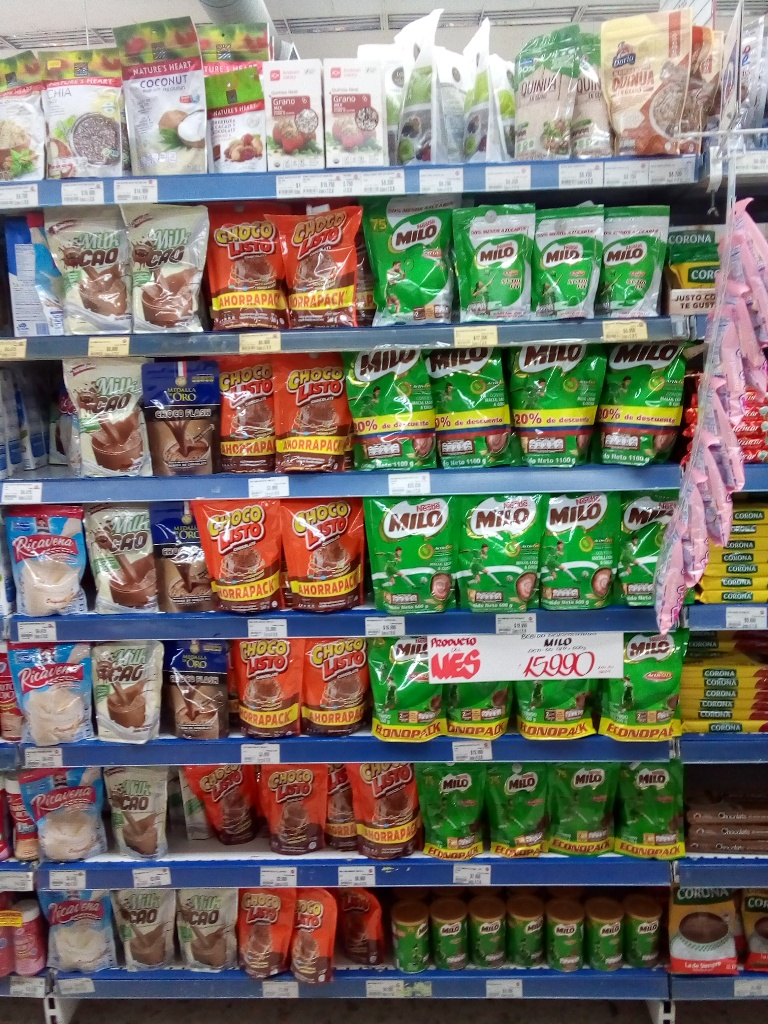COL0170103DYP20000: (183, 756, 260, 845)
COL0170103DYP44000: (194, 205, 290, 336)
COL0170203DYP25000: (482, 761, 549, 857)
COL0170203DYP50000: (360, 492, 459, 615)
COL0170203LAT20000: (627, 901, 666, 968)
COL0170205DYP20000: (448, 201, 530, 321)
COL0170205DYP50000: (358, 192, 456, 325)
